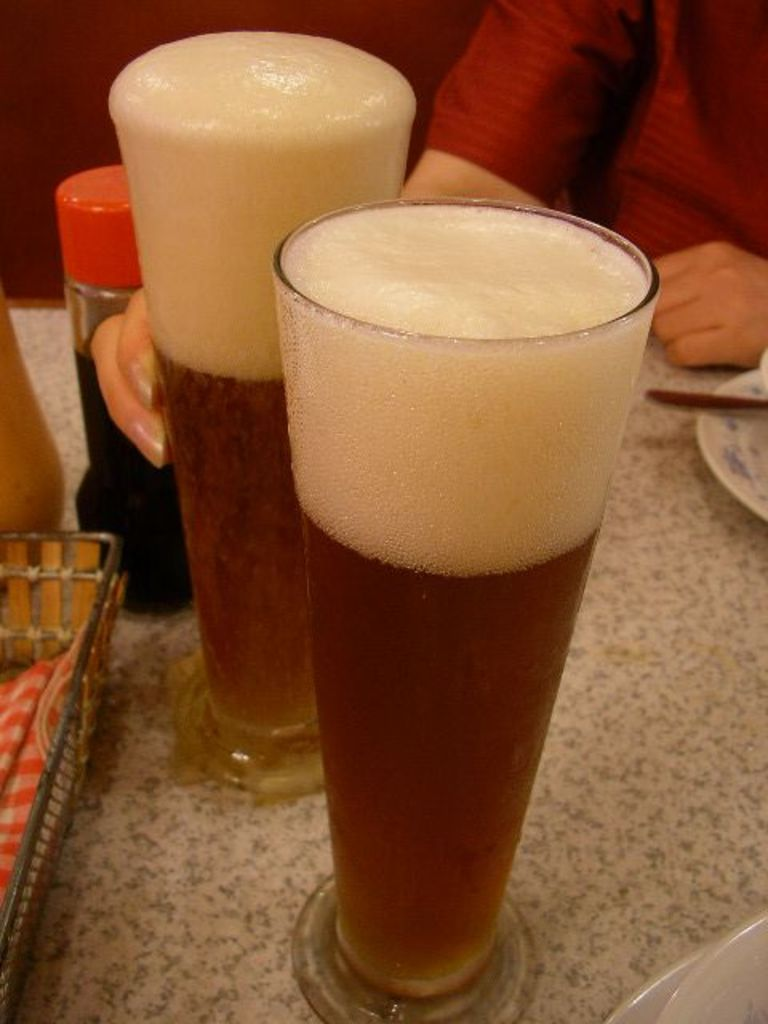Beer: (270, 196, 659, 1024), (107, 32, 416, 800)
